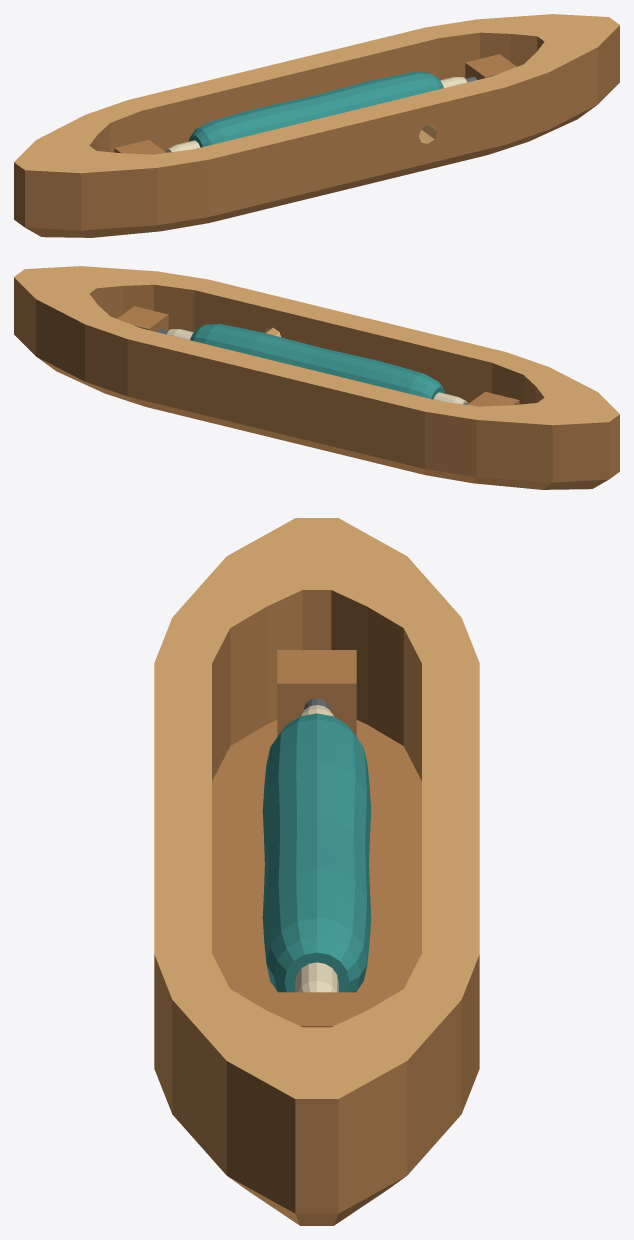
3 views of the same model, one above another, from view 1: azimuth 30°, elevation 25°; view 2: azimuth 150°, elevation 25°; view 3: azimuth 270°, elevation 25° (orthographic). The views are drawn at different scales.
Visible parts, largest first — view 1: Shuttle_ContinuousHollowWoodHull, Weft_SingleWoundYarn, Spindle_EndSeat_Right, Spindle_EndSeat_Left, Weft_CreamCore; view 2: Shuttle_ContinuousHollowWoodHull, Weft_SingleWoundYarn, Spindle_EndSeat_Right, Spindle_EndSeat_Left, Weft_CreamCore; view 3: Shuttle_ContinuousHollowWoodHull, Weft_SingleWoundYarn, Spindle_EndSeat_Left, Spindle_EndSeat_Right, Weft_CreamCore.
Boxes of the visible parts, box(x1,y1,x2,y2) form: Shuttle_ContinuousHollowWoodHull: box(14, 14, 619, 237); Weft_SingleWoundYarn: box(188, 72, 443, 147); Spindle_EndSeat_Right: box(465, 54, 516, 79); Spindle_EndSeat_Left: box(114, 139, 166, 154); Weft_CreamCore: box(166, 77, 467, 152); Shuttle_ContinuousHollowWoodHull: box(14, 266, 619, 489); Weft_SingleWoundYarn: box(190, 324, 445, 399); Spindle_EndSeat_Right: box(117, 306, 168, 331); Spindle_EndSeat_Left: box(467, 391, 519, 406); Weft_CreamCore: box(166, 329, 467, 404); Shuttle_ContinuousHollowWoodHull: box(154, 518, 479, 1225); Weft_SingleWoundYarn: box(262, 713, 371, 992); Spindle_EndSeat_Left: box(277, 650, 356, 736); Spindle_EndSeat_Right: box(277, 992, 356, 1027); Weft_CreamCore: box(295, 705, 338, 992).
Bounding box in the file's own units: 0.38 × 0.044 × 0.09.
